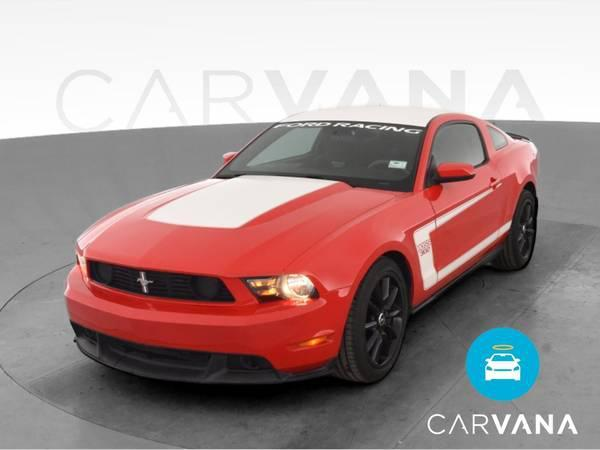Front_Bumper: (62, 245, 355, 382)
Front_Fender: (285, 193, 438, 310)
Front_Left_Door: (427, 159, 504, 289)
Front_Left_Window: (427, 120, 489, 191)
Front_Windshield: (213, 119, 427, 192)
Grille: (86, 252, 237, 302)
Hood: (80, 169, 400, 272)
Left_Headlight: (238, 268, 321, 302)
Rear_Fender: (481, 125, 540, 241)
Roof: (278, 104, 515, 190)
Wheel: (344, 261, 413, 382), (510, 196, 539, 272)
